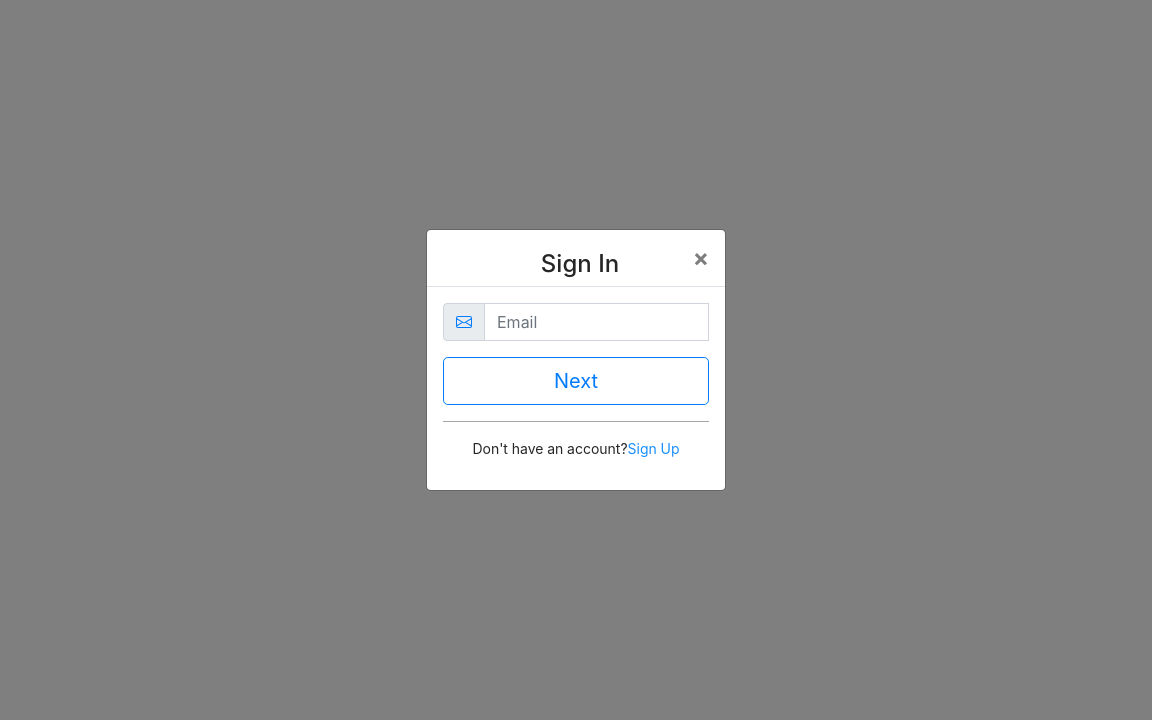
Test case: login page tests › entered valid registered Email as input
Type "9knight9n@gmail.com" into the field with placeholder "Email". click: (596, 322)
box: [484,303,709,341]
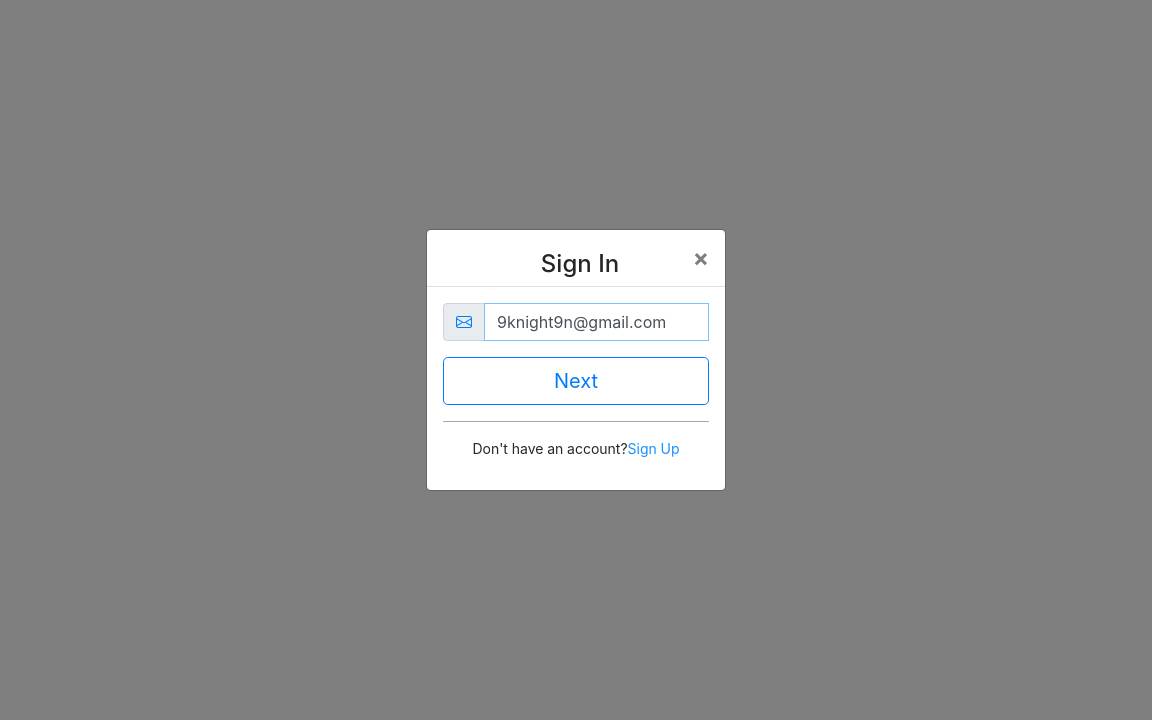
Click the button "Next". click: (576, 381)
box: [443,357,709,405]
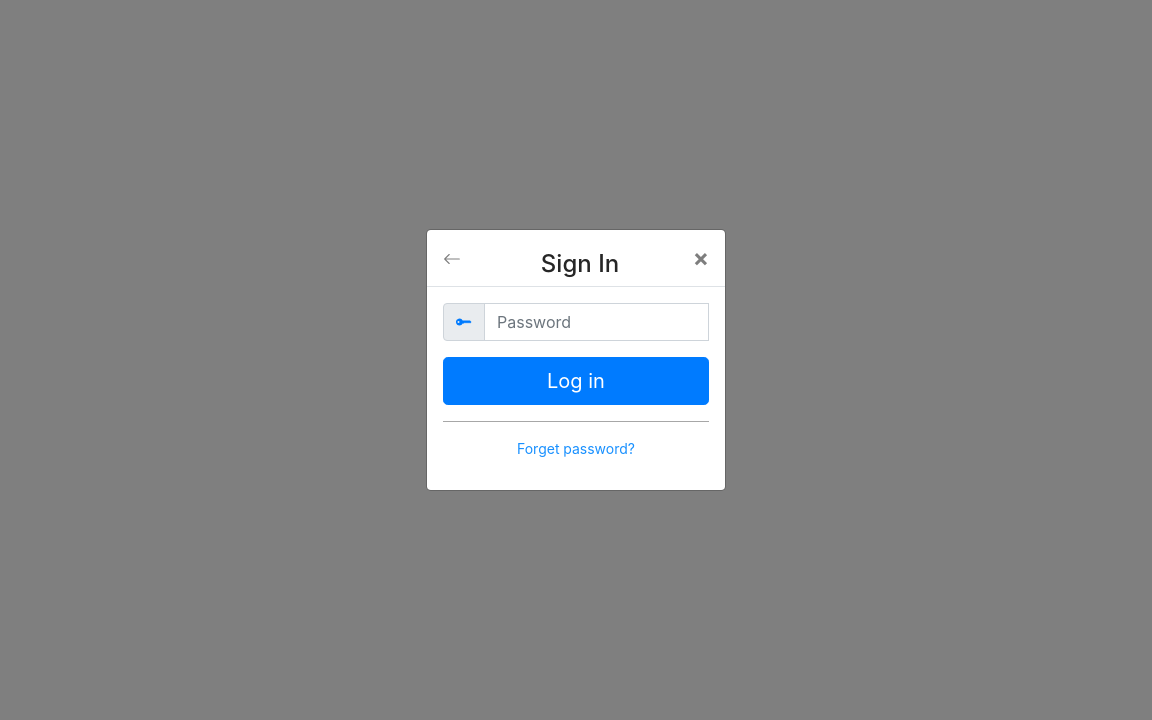
Check: the button "Log in" is shown, box [443,357,709,405]
